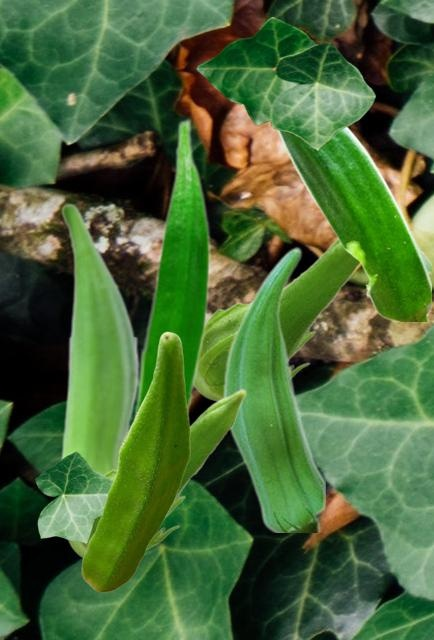okra: (68, 388, 246, 557), (276, 127, 430, 320), (222, 246, 324, 531), (81, 331, 189, 591), (195, 239, 360, 401), (130, 117, 211, 424), (60, 202, 139, 473)
